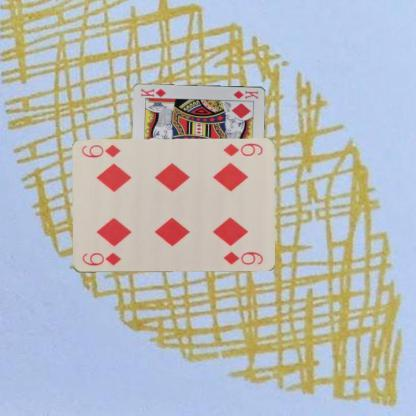6d: (220, 141, 264, 158), (80, 250, 122, 267)
Kd: (231, 88, 260, 100)
